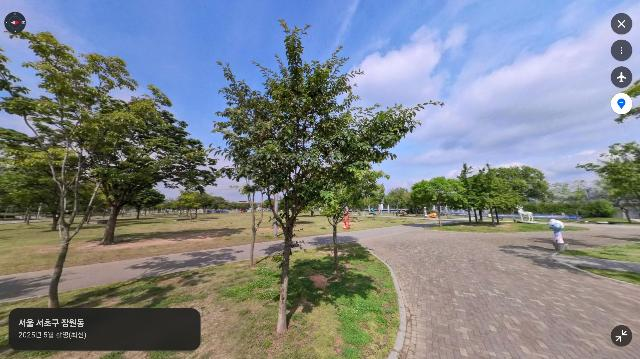other: (206, 18, 445, 336), (3, 30, 141, 310), (68, 84, 221, 247), (315, 172, 380, 275), (572, 141, 640, 224), (478, 164, 544, 225), (238, 180, 272, 268), (409, 177, 469, 226), (455, 163, 502, 223), (125, 186, 167, 221), (168, 189, 205, 222)
